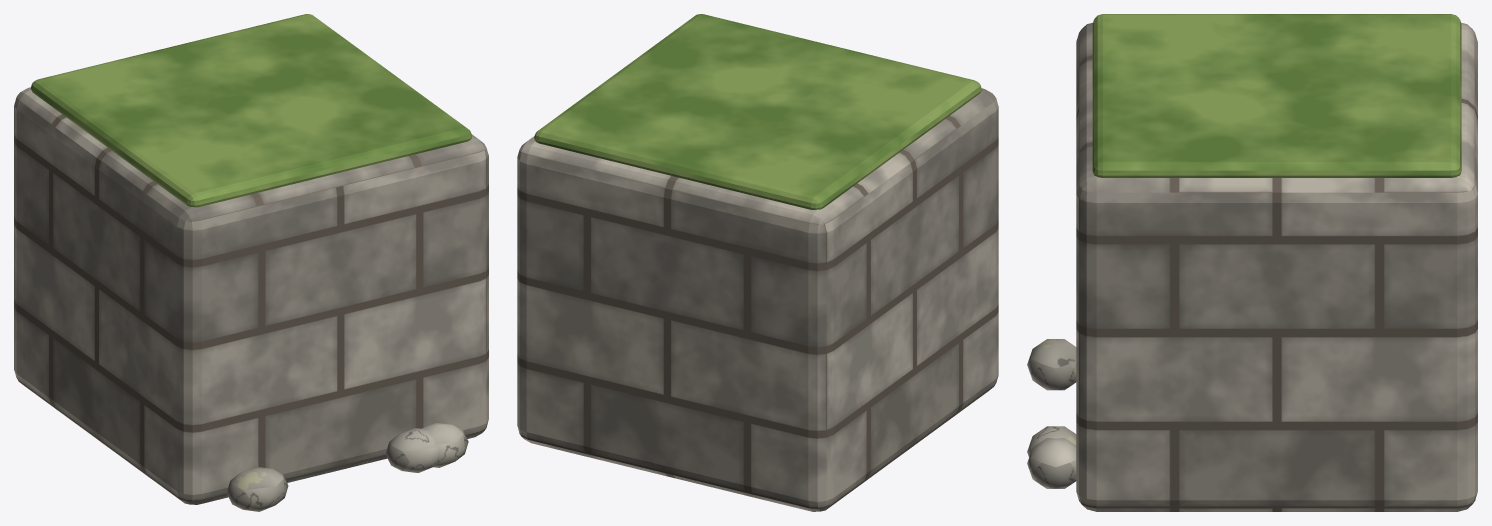
The model's file is wall1.glb.
3 views of the same model, side by side, from view 1: azimuth 30°, elevation 25°; view 2: azimuth 150°, elevation 25°; view 3: azimuth 270°, elevation 25° (orthographic). The views are drawn at different scales.
Visible parts, largest first — view 1: wall1; view 2: wall1; view 3: wall1.
Boxes of the visible parts, <box> form: wall1: <box>14,14,488,511</box>; wall1: <box>517,14,998,511</box>; wall1: <box>1027,14,1477,511</box>.
Bounding box in the file's own units: 0.98 × 0.94 × 1.1.
Materials: 3 (3 with a texture image).
